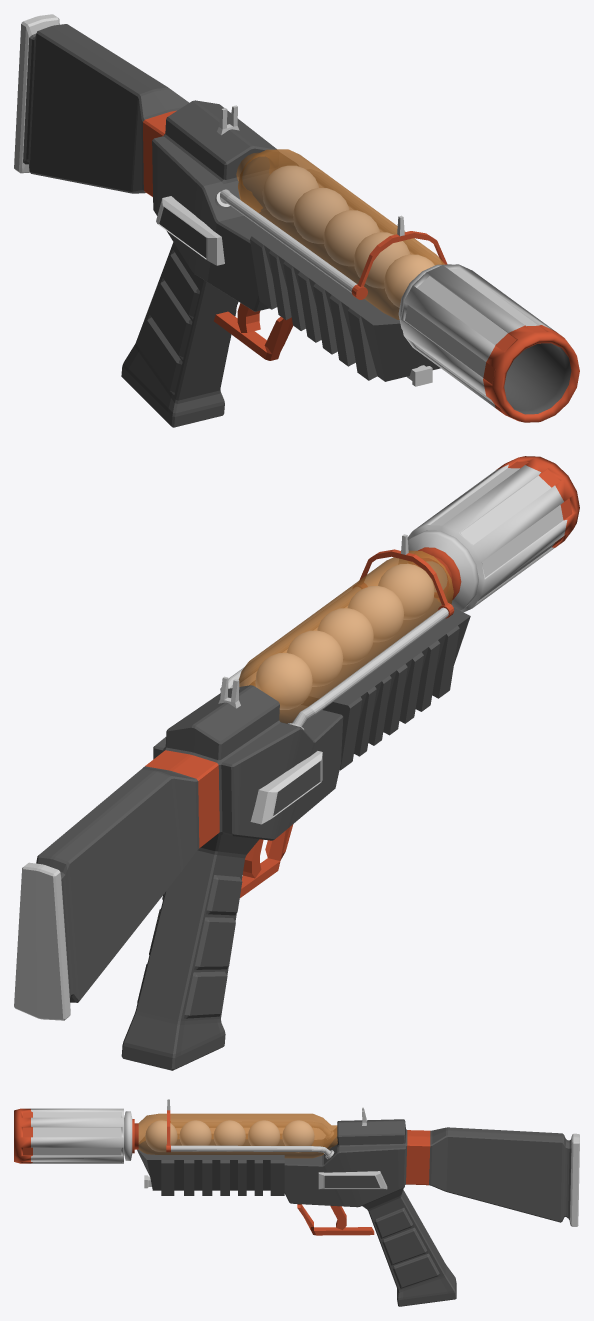
Rendered from Pingpong-Gun-New.fbx.
The picture shows the model from 3 angles, top to bottom: view 1: azimuth 30°, elevation 25°; view 2: azimuth 150°, elevation 25°; view 3: azimuth 270°, elevation 25°; orthographic projection. The views are drawn at different scales.
Visible parts, largest first — view 1: Icosphere; view 2: Icosphere; view 3: Icosphere.
Part boxes in pixels (x1,y1,x2,y2): Icosphere: (14, 14, 579, 427); Icosphere: (14, 456, 579, 1070); Icosphere: (14, 1099, 579, 1306).
Bounding box in the file's own units: 12.5 × 38.75 × 99.31.
